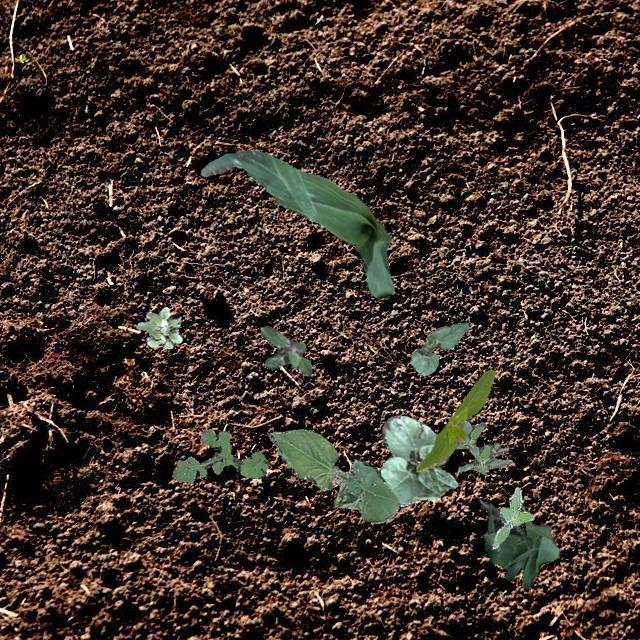crop: (200, 148, 392, 298), (267, 428, 398, 522), (416, 368, 494, 471), (479, 498, 559, 588), (379, 414, 456, 506), (410, 321, 468, 374)
weed: (172, 428, 268, 482), (454, 418, 510, 472), (260, 324, 310, 376), (492, 487, 532, 548), (136, 306, 182, 348)
